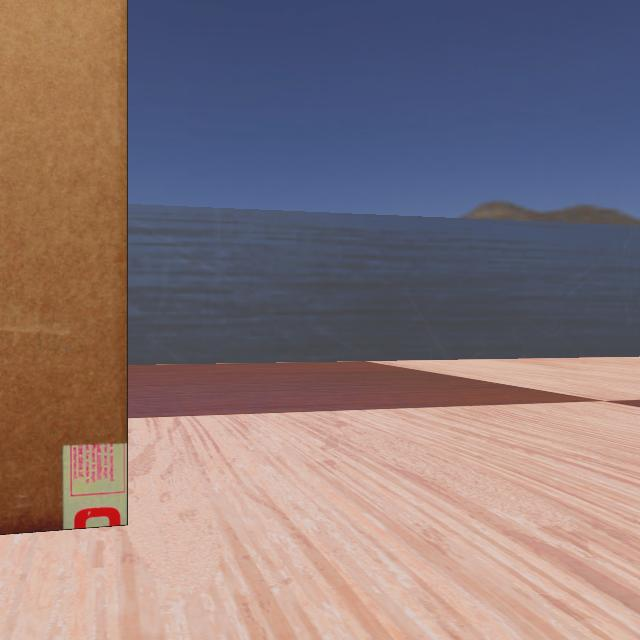cardboard-box: (0, 1, 224, 640)
